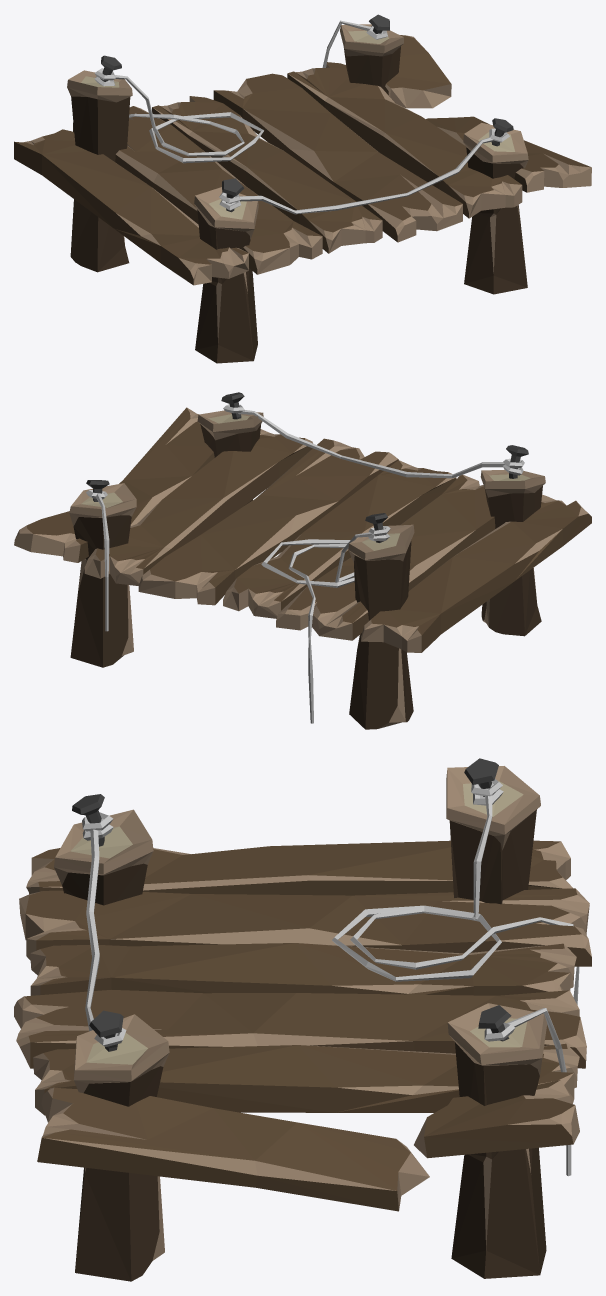
File: Timber_Bridge_01.FBX
3 renders of one model, top to bottom at view 1: azimuth 30°, elevation 25°; view 2: azimuth 150°, elevation 25°; view 3: azimuth 270°, elevation 25°, orthographic. The views are drawn at different scales.
Visible parts, largest first — view 1: Timber_Bridge_01; view 2: Timber_Bridge_01; view 3: Timber_Bridge_01.
Boxes of the visible parts, bbox=[...] form: Timber_Bridge_01: bbox=[14, 14, 591, 363]; Timber_Bridge_01: bbox=[14, 392, 591, 729]; Timber_Bridge_01: bbox=[14, 758, 591, 1281].
Bounding box in the file's own units: 4.87 × 2.29 × 3.98.
